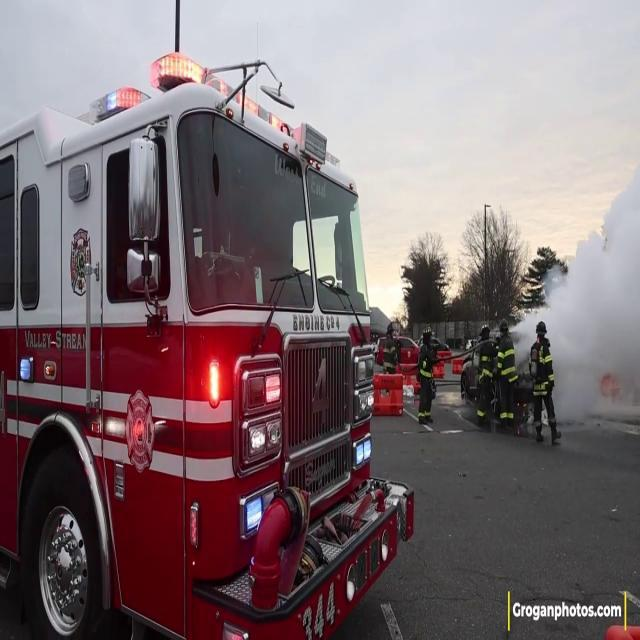Fire: (153, 46, 209, 86)
Smoke: (544, 46, 640, 424)
